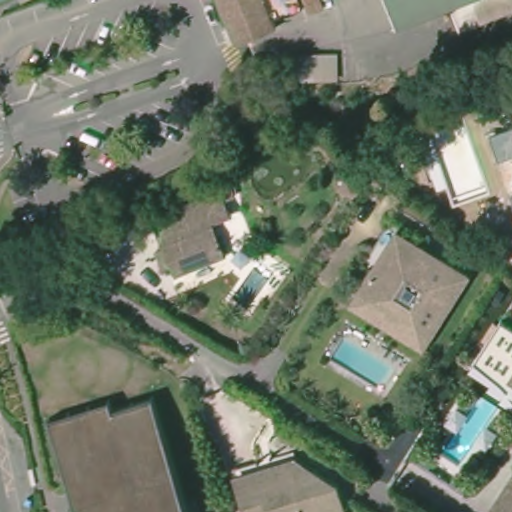pool: (327, 333, 400, 391), (442, 397, 499, 467)
